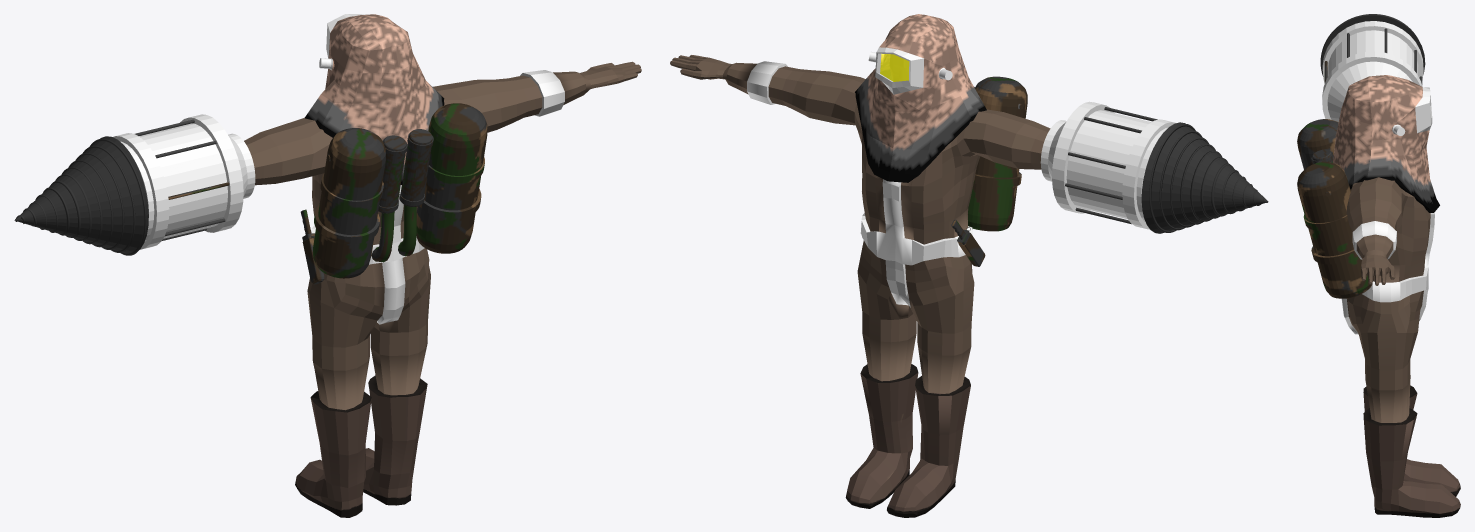
File: main character.fbx
3 renders of one model, left to right at view 1: azimuth 30°, elevation 25°; view 2: azimuth 150°, elevation 25°; view 3: azimuth 270°, elevation 25°, orthographic. The views are drawn at different scales.
Parts seen in each view (by area): view 1: Body, drill, big gas tanks, helmet, small gas tanks, back tubes; view 2: Body, drill, helmet, big gas tanks; view 3: Body, helmet, big gas tanks, drill, small gas tanks.
Boxes of the visible parts, x1,y1,x2,y2 form: Body: [244, 61, 641, 517]; drill: [14, 114, 255, 255]; big gas tanks: [313, 103, 487, 278]; helmet: [304, 14, 444, 184]; small gas tanks: [378, 129, 433, 213]; back tubes: [371, 205, 416, 262]; Body: [670, 54, 1050, 517]; drill: [1040, 101, 1268, 233]; helmet: [855, 14, 986, 182]; big gas tanks: [968, 76, 1027, 231]; Body: [1341, 177, 1460, 517]; helmet: [1333, 75, 1439, 212]; big gas tanks: [1297, 119, 1373, 298]; drill: [1320, 14, 1425, 121]; small gas tanks: [1311, 149, 1333, 163].
Bounding box in the file's own units: 2.27 × 0.5927 × 1.69.
Materials: 7 (4 with a texture image).
